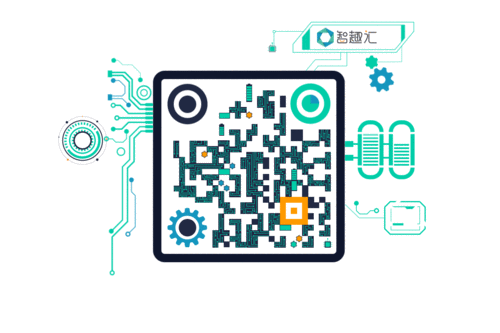QRCode: (166, 83, 334, 252)
